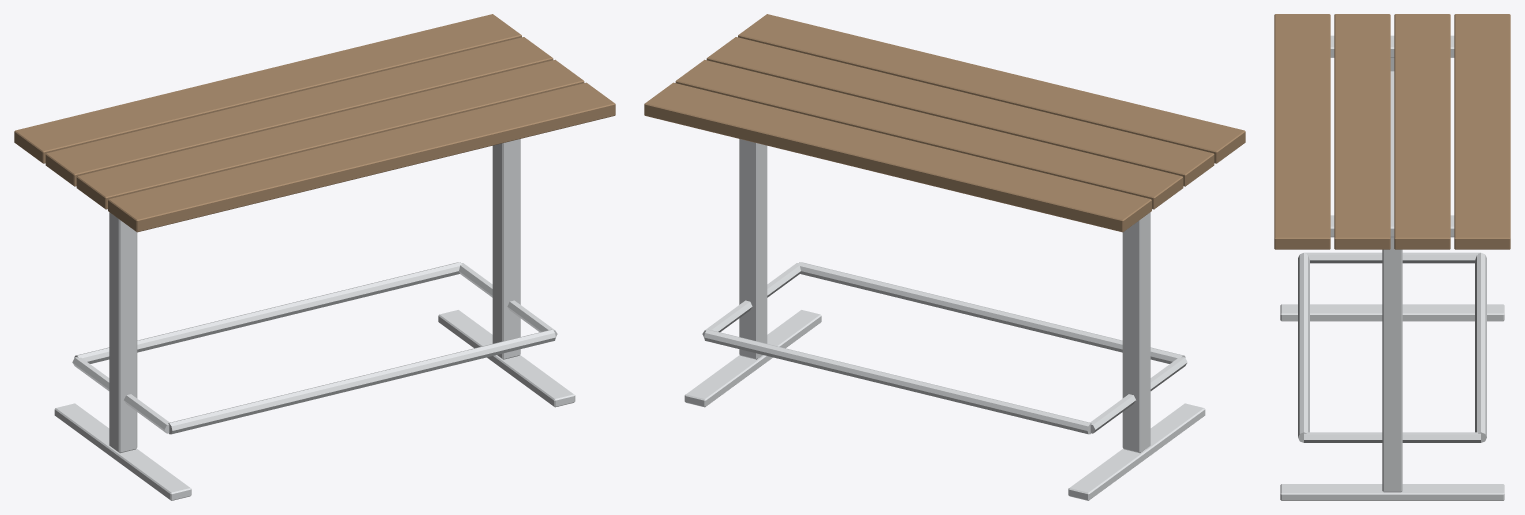
The model's file is bar-pub-and-brewery-taproom-taproom-high-table-b3365a27__18404.glb.
3 renders of one model, left to right at view 1: azimuth 30°, elevation 25°; view 2: azimuth 150°, elevation 25°; view 3: azimuth 270°, elevation 25°, orthographic. The views are drawn at different scales.
Visible parts, largest first — view 1: taproom-high-table; view 2: taproom-high-table; view 3: taproom-high-table.
Part boxes in pixels (x1,y1,x2,y2): taproom-high-table: [14, 14, 615, 500]; taproom-high-table: [644, 14, 1245, 500]; taproom-high-table: [1274, 14, 1510, 500].
Bounding box in the file's own units: 1.8 × 1.05 × 0.7999.
